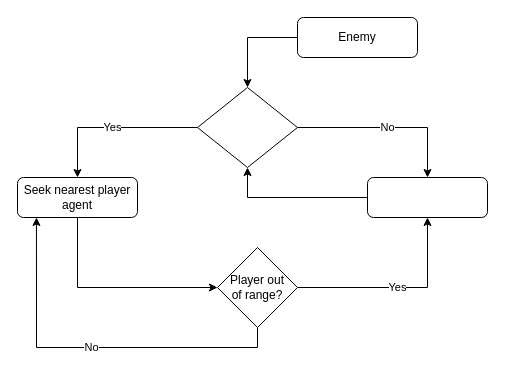
Image size: 505x373. Some labels were removed from this diagram. Each missing label, with the centre of its shape:
"Is player agent near?" belongs at pixel 247 127.
"Wander" belongs at pixel 427 197.
